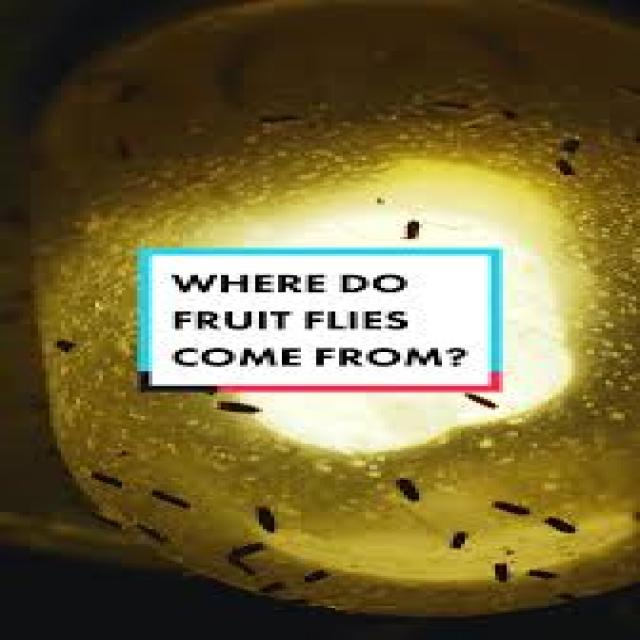fruit fly: (228, 495, 294, 533), (377, 467, 438, 508), (133, 482, 202, 514), (476, 490, 537, 520), (210, 531, 270, 561), (198, 395, 267, 420), (68, 460, 125, 490), (206, 548, 263, 578), (526, 508, 583, 538), (118, 516, 172, 546), (240, 105, 309, 128), (537, 152, 587, 182), (541, 130, 594, 158), (388, 209, 431, 243), (289, 563, 343, 589), (514, 555, 564, 582), (453, 386, 503, 412), (248, 570, 290, 600), (434, 520, 476, 550), (412, 92, 472, 113), (80, 504, 122, 531), (480, 554, 514, 584)
